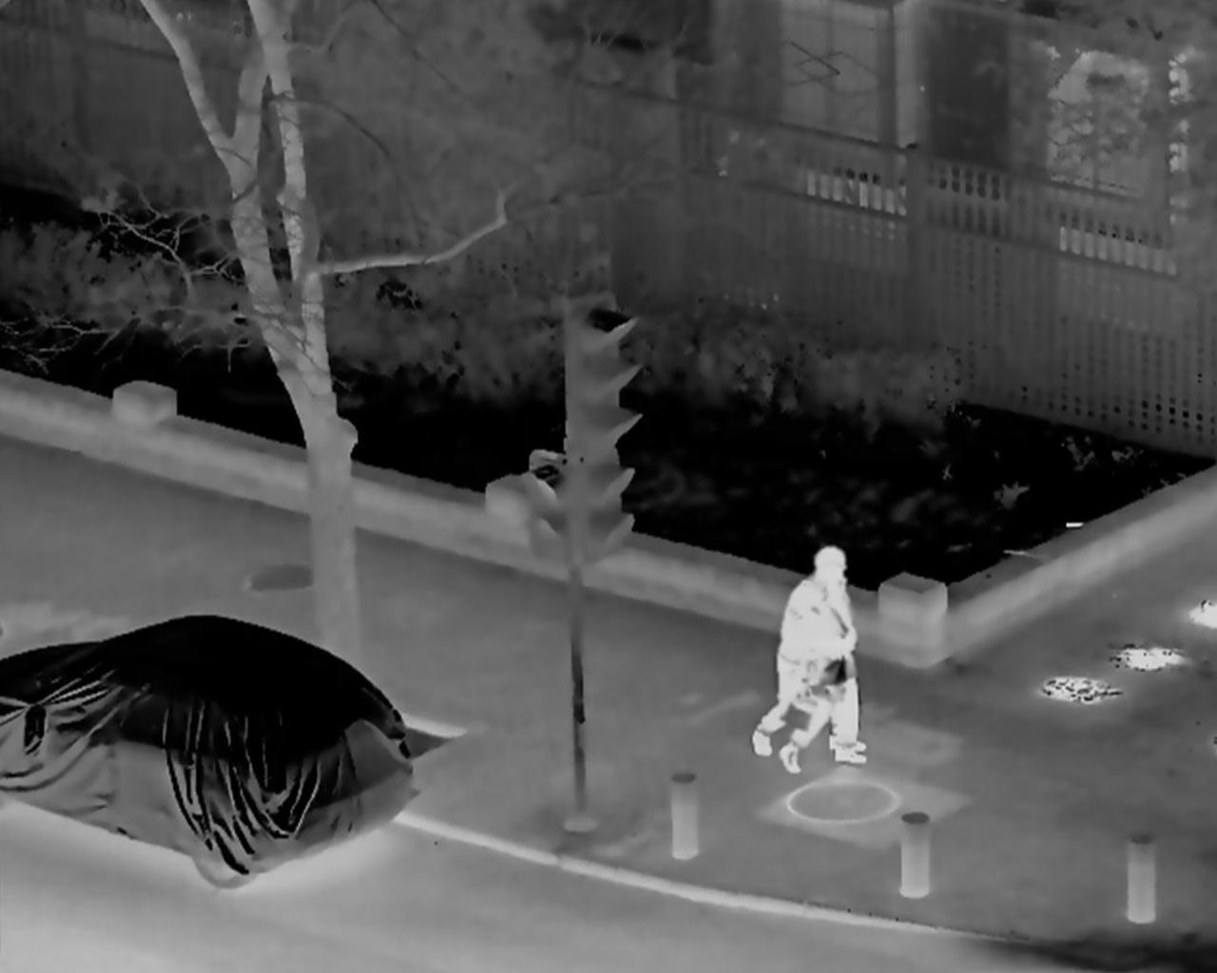person: (755, 577, 860, 772), (783, 548, 872, 774)
